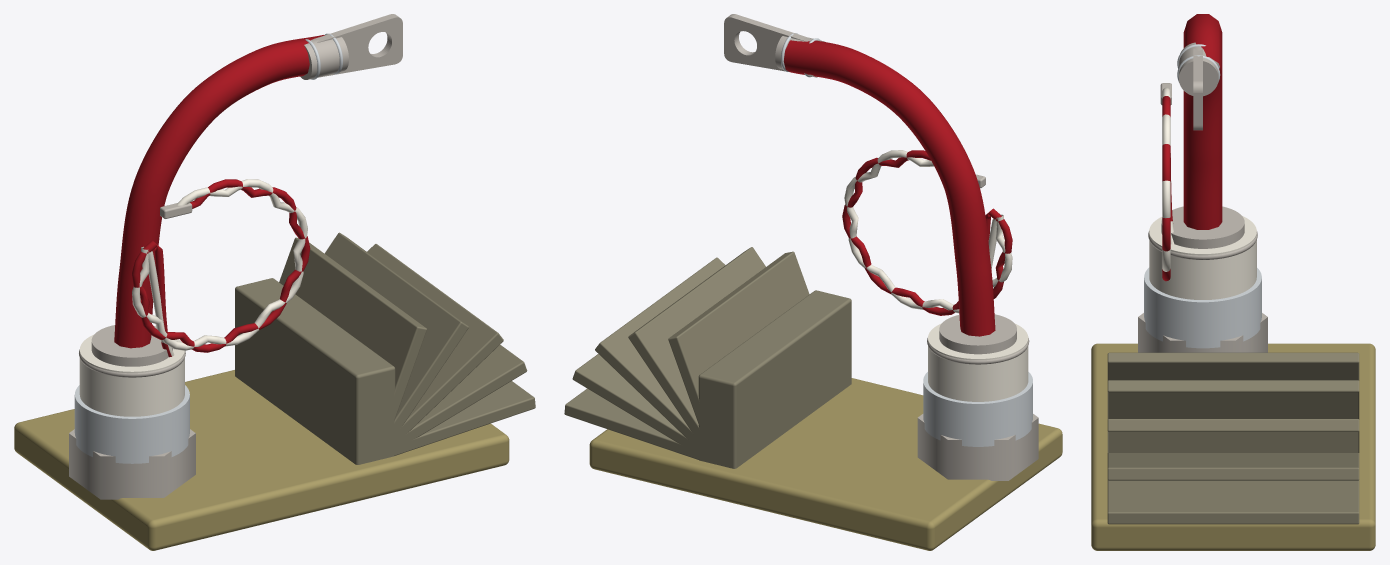
The model's file is components-12.glb.
3 views of the same model, side by side, from view 1: azimuth 30°, elevation 25°; view 2: azimuth 150°, elevation 25°; view 3: azimuth 270°, elevation 25° (orthographic). The views are drawn at different scales.
Parts seen in each view (by area): view 1: sink, stud, cable, gate, lug; view 2: sink, stud, cable, gate, lug; view 3: sink, stud, cable, lug, gate.
Boxes of the visible parts, x1,y1,x2,y2 form: sink: [14, 232, 535, 550]; stud: [69, 325, 195, 499]; cable: [114, 35, 324, 348]; gate: [132, 179, 310, 357]; lug: [300, 14, 402, 79]; sink: [564, 247, 1062, 550]; stud: [917, 314, 1038, 480]; cable: [783, 40, 995, 336]; gate: [842, 150, 1012, 315]; lug: [724, 14, 824, 77]; sink: [1091, 343, 1375, 550]; stud: [1138, 206, 1267, 352]; cable: [1183, 14, 1222, 229]; lug: [1177, 42, 1220, 130]; gate: [1160, 83, 1174, 281].
Size of the model in its own units: 2.37 by 2.38 by 1.4.
